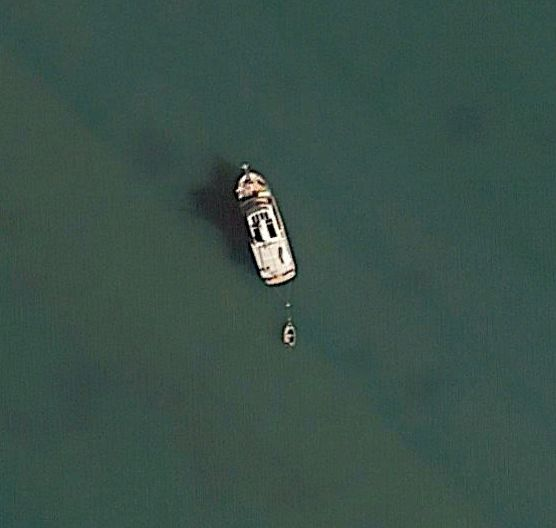boat: (231, 162, 302, 293)
